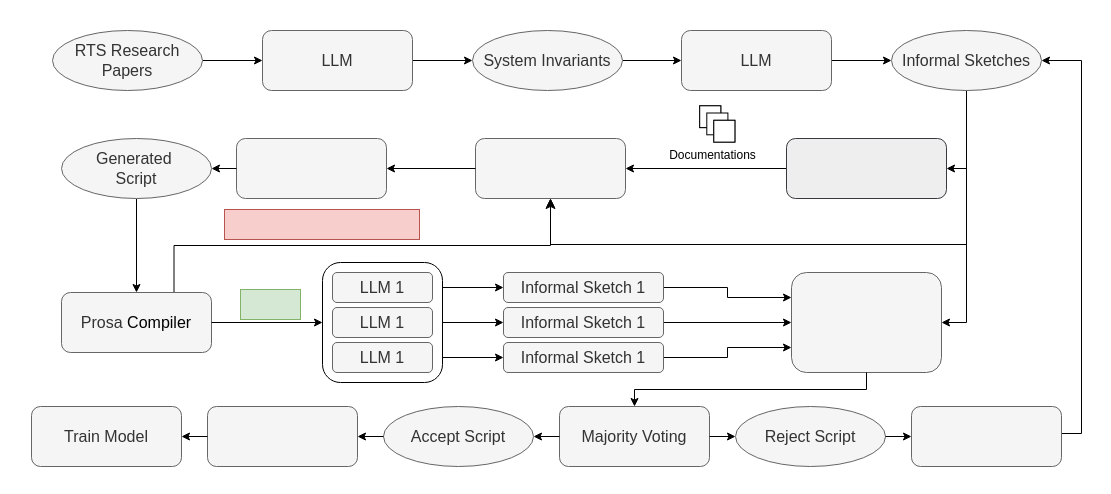
Some shapes in this 1111 by 494 pixel diagram are drawn without their labels. The centre of each missing label's shape, as x and y in pixels:
"Cosine Similarity" belongs at (x=866, y=322).
"Fail (Error + Script as feedback)" belongs at (x=322, y=224).
"FIne-tuned LLM" belongs at (x=311, y=168).
"Pass" belongs at (x=270, y=304).
"Prompt Generator" belongs at (x=550, y=168).
"RAG" belongs at (x=866, y=168).
"Regenerate Script" belongs at (x=986, y=436).
"Save Datapoint" belongs at (x=282, y=436).
